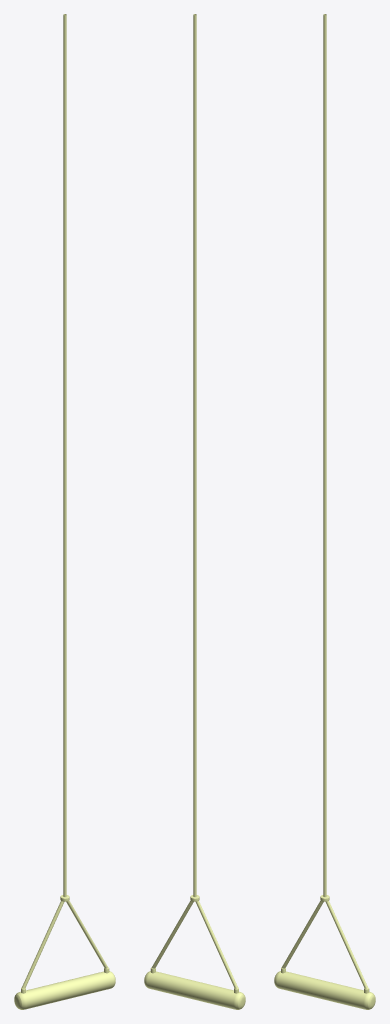
The model's file is Pull_Lever.fbx.
3 renders of one model, left to right at view 1: azimuth 30°, elevation 25°; view 2: azimuth 150°, elevation 25°; view 3: azimuth 330°, elevation 25°, orthographic.
Visible parts, largest first — view 1: rope3, pull_bar, rope2, rope1; view 2: rope3, pull_bar, rope2, rope1; view 3: rope3, pull_bar, rope1, rope2.
Boxes of the visible parts, x1=… form: rope3: x1=63, y1=14, x2=66, y2=896; pull_bar: x1=14, y1=971, x2=115, y2=1009; rope2: x1=21, y1=901, x2=64, y2=988; rope1: x1=66, y1=900, x2=108, y2=968; rope3: x1=193, y1=14, x2=196, y2=896; pull_bar: x1=144, y1=971, x2=245, y2=1009; rope2: x1=195, y1=901, x2=238, y2=988; rope1: x1=151, y1=900, x2=193, y2=968; rope3: x1=323, y1=14, x2=326, y2=896; pull_bar: x1=274, y1=971, x2=375, y2=1009; rope1: x1=325, y1=901, x2=368, y2=988; rope2: x1=281, y1=900, x2=323, y2=968.
Bounding box in the file's own units: 0.3241 × 3.16 × 0.0541.
